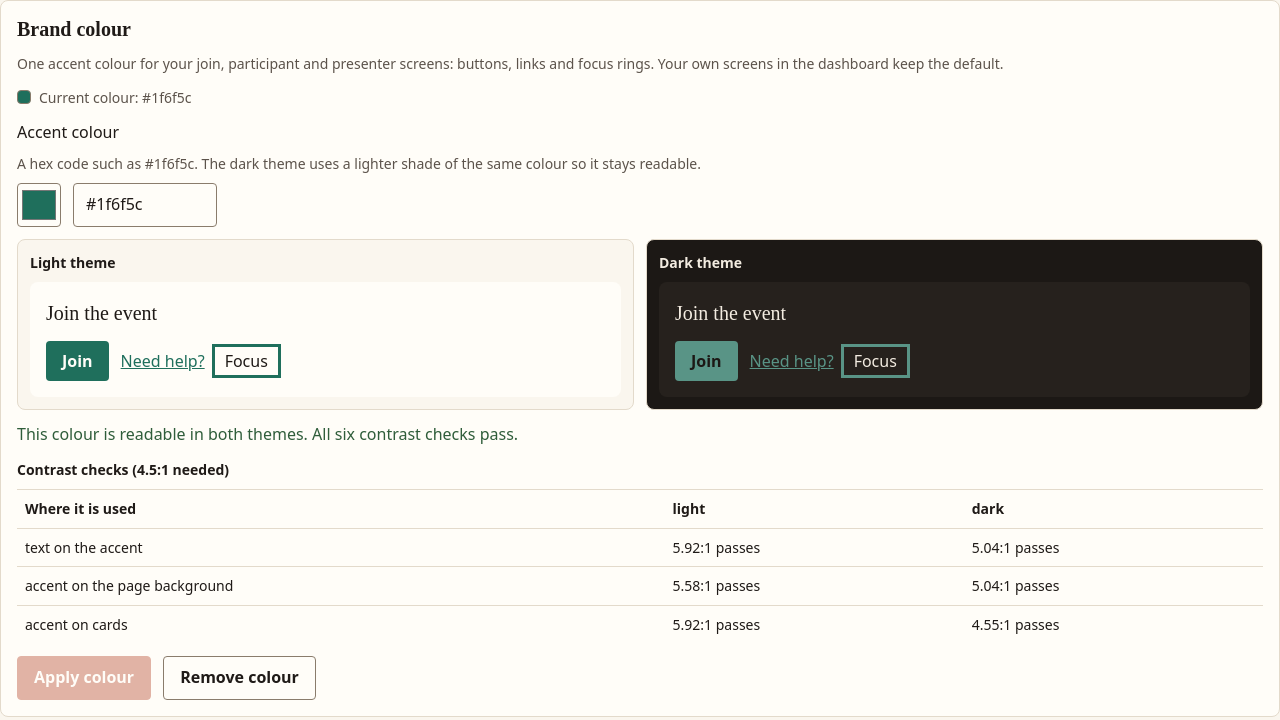
Scenario: BrandingSettings › removes the colour with null and goes back to the default
The width and height of the screenshot is (1280, 720).
What coordinates should you click on to do the following:
click the button "Remove colour"
I would click on:
 (239, 678)
Its box is 163,656 -> 316,700.
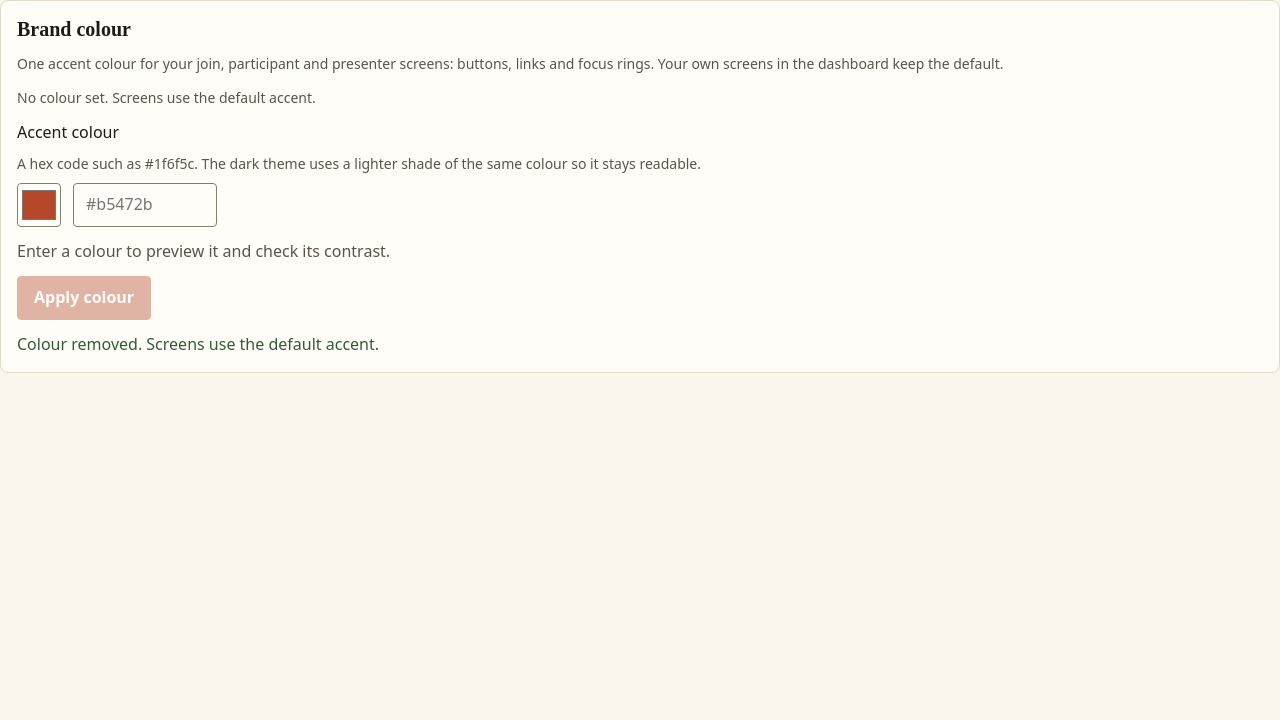
Result: the text "Colour removed. Screens use the default accent." is shown at 17,332 -> 379,356
Result: the text "No colour set. Screens use the default accent." is shown at 17,87 -> 316,108
Result: the button "Remove colour" is gone
